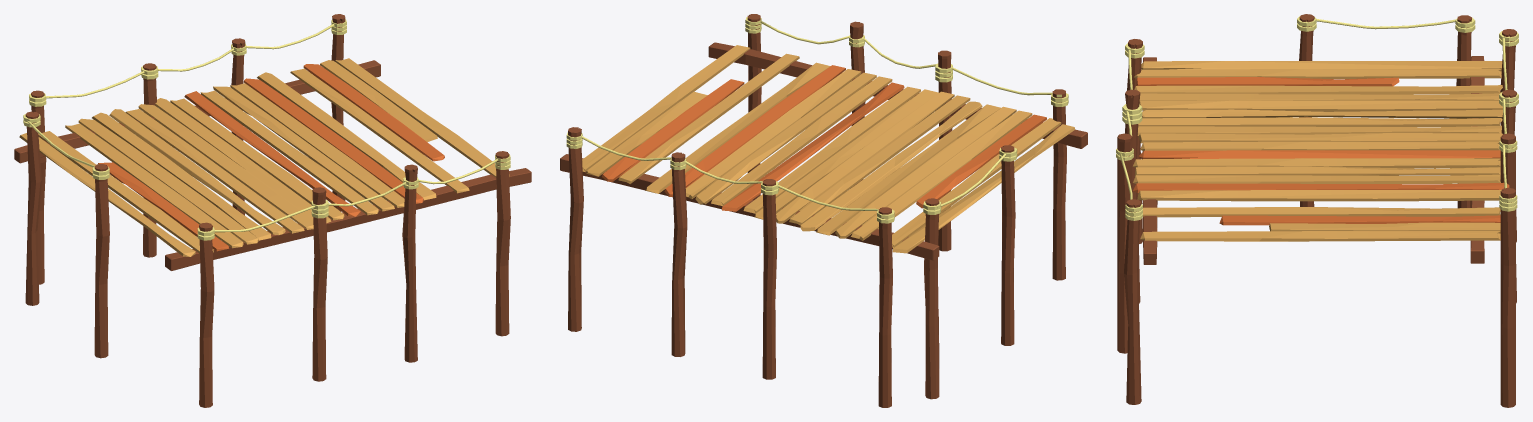
File: Big Wooden Platform.fbx
3 views of the same model, side by side, from view 1: azimuth 30°, elevation 25°; view 2: azimuth 150°, elevation 25°; view 3: azimuth 270°, elevation 25° (orthographic). The views are drawn at different scales.
Parts seen in each view (by area): view 1: Big Wooden Platform; view 2: Big Wooden Platform; view 3: Big Wooden Platform.
Part boxes in pixels (left/top/right/bottom): Big Wooden Platform: left=14, top=14, right=531, bottom=407; Big Wooden Platform: left=560, top=14, right=1087, bottom=407; Big Wooden Platform: left=1116, top=14, right=1518, bottom=407.
Size of the model in its own units: 874 by 440 by 751.
